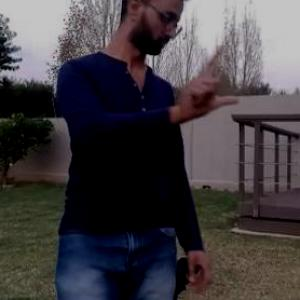land_hand: (169, 42, 240, 118)
